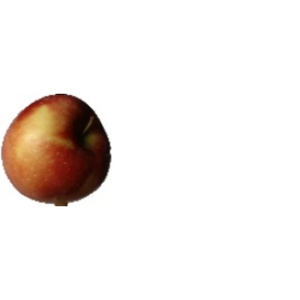maçã braeburn: (3, 91, 115, 210)
